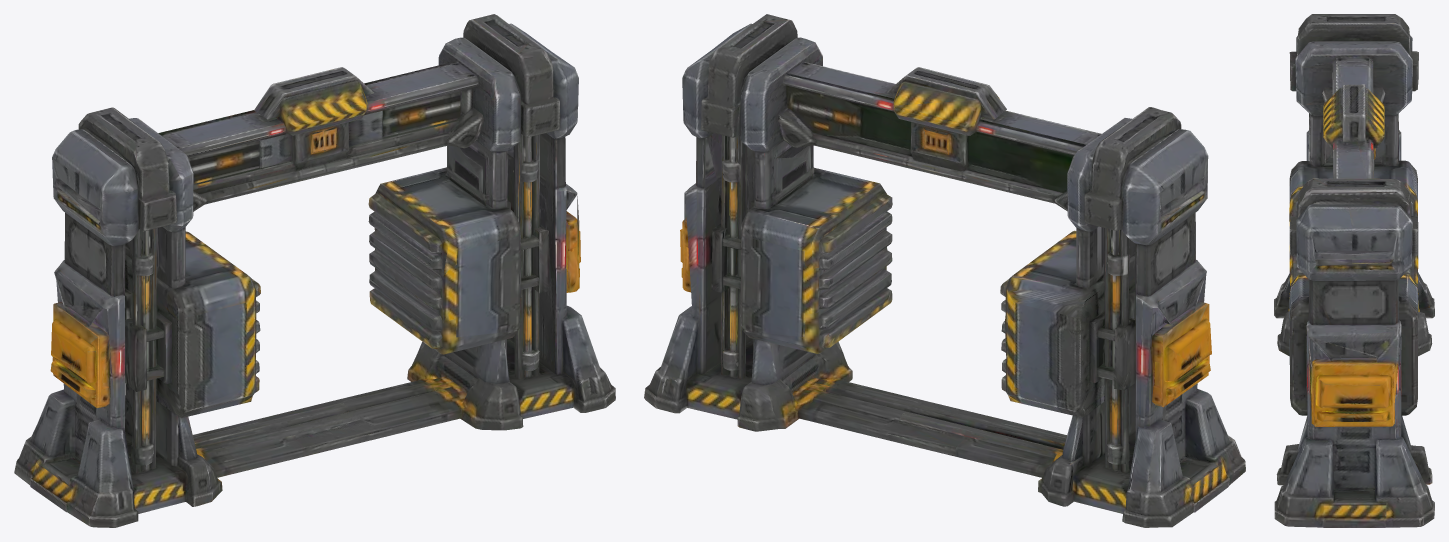
Rendered from gates_danger.glb.
3 renders of one model, left to right at view 1: azimuth 30°, elevation 25°; view 2: azimuth 150°, elevation 25°; view 3: azimuth 270°, elevation 25°, orthographic. The views are drawn at different scales.
Parts seen in each view (by area): view 1: mesh_node; view 2: mesh_node; view 3: mesh_node.
Boxes of the visible parts, box(x1,y1,x2,y2) form: mesh_node: box(14, 14, 615, 527); mesh_node: box(644, 14, 1245, 527); mesh_node: box(1274, 14, 1434, 527).
Bounding box in the file's own units: 1 × 0.6386 × 0.2959.
Materials: 1 (1 with a texture image).
